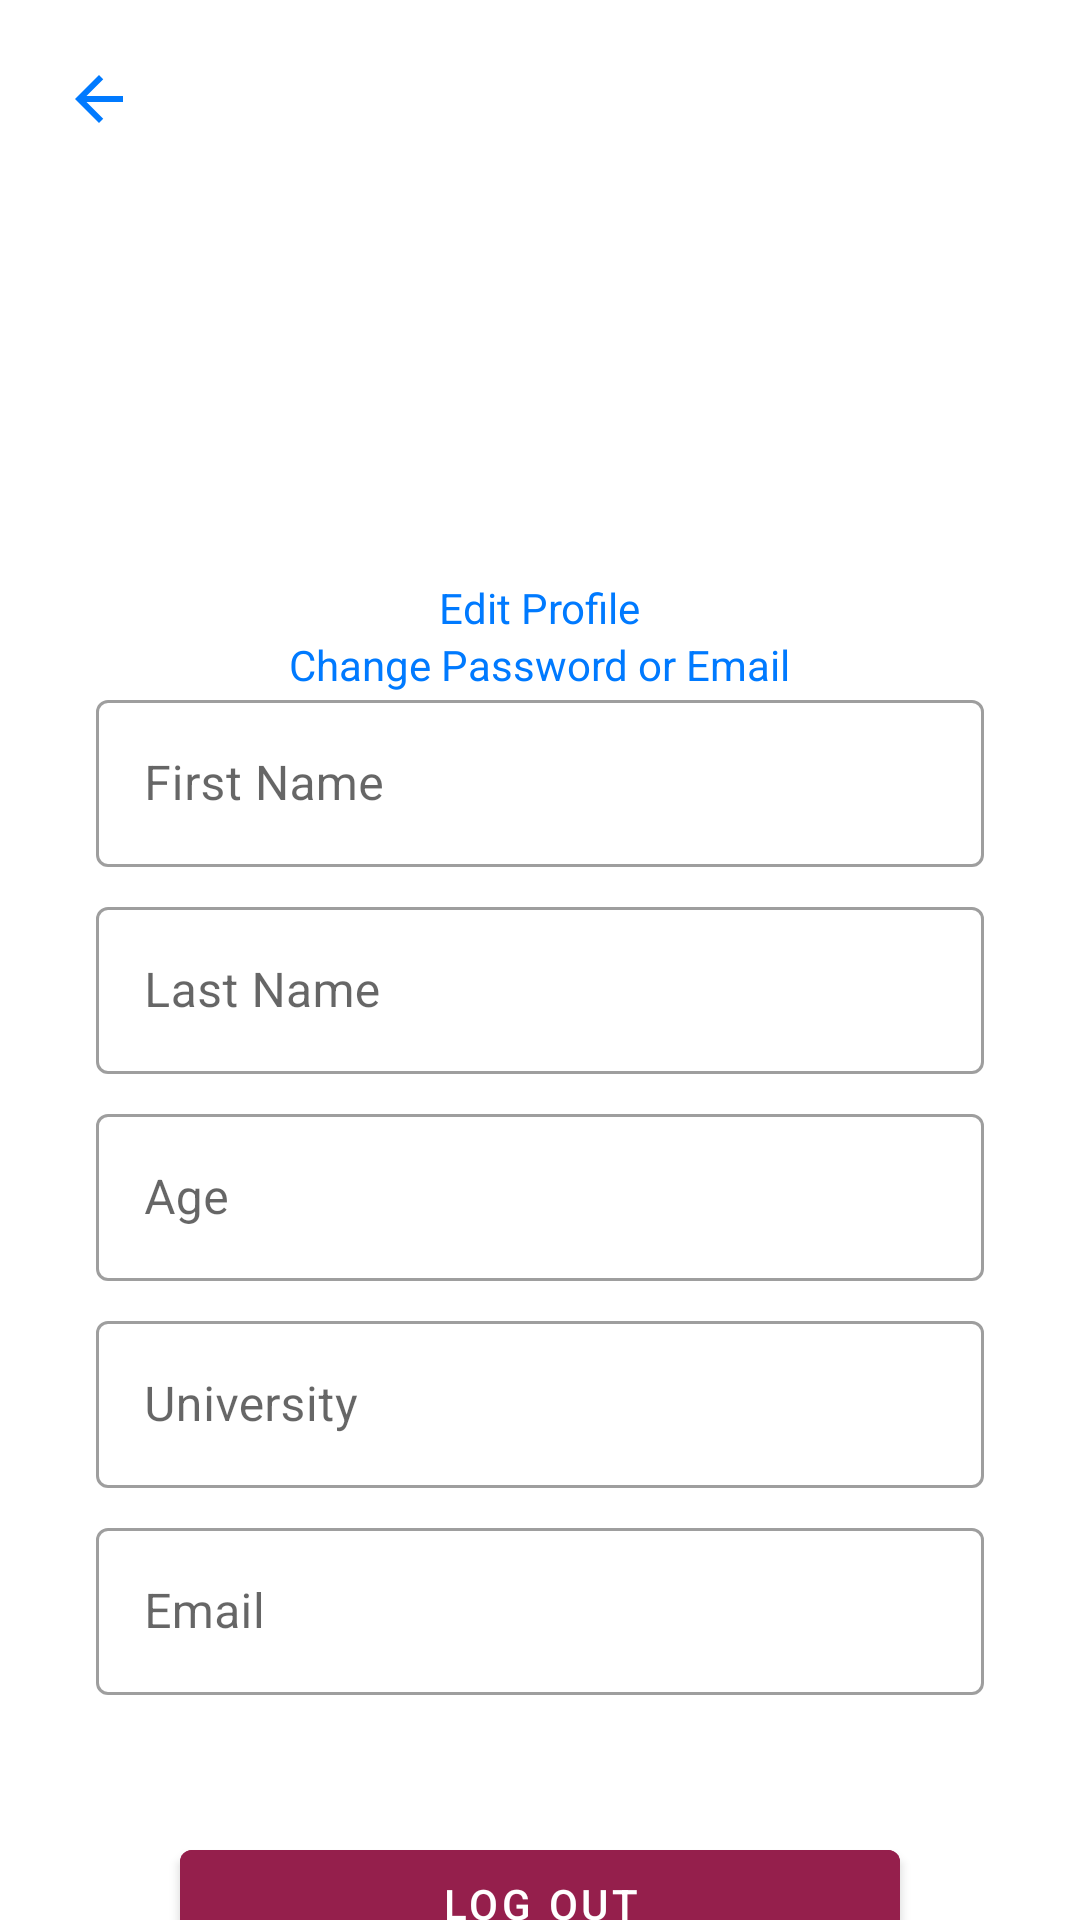

Point at icon controls on the screen. Image size 1080x1920, points as (x=x, y=y).
arrow back: (x=99, y=99)
